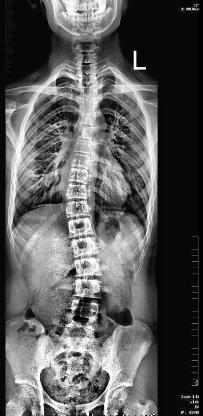Vertebrae: (71, 236, 99, 258), (70, 300, 100, 320), (75, 258, 104, 278), (74, 280, 102, 298), (67, 218, 93, 236), (64, 200, 91, 216), (78, 110, 100, 126), (66, 184, 88, 200), (68, 168, 88, 184), (76, 126, 96, 140), (74, 140, 94, 154), (71, 154, 91, 168), (79, 98, 101, 110), (76, 63, 98, 74), (78, 74, 98, 86), (79, 86, 99, 98)
